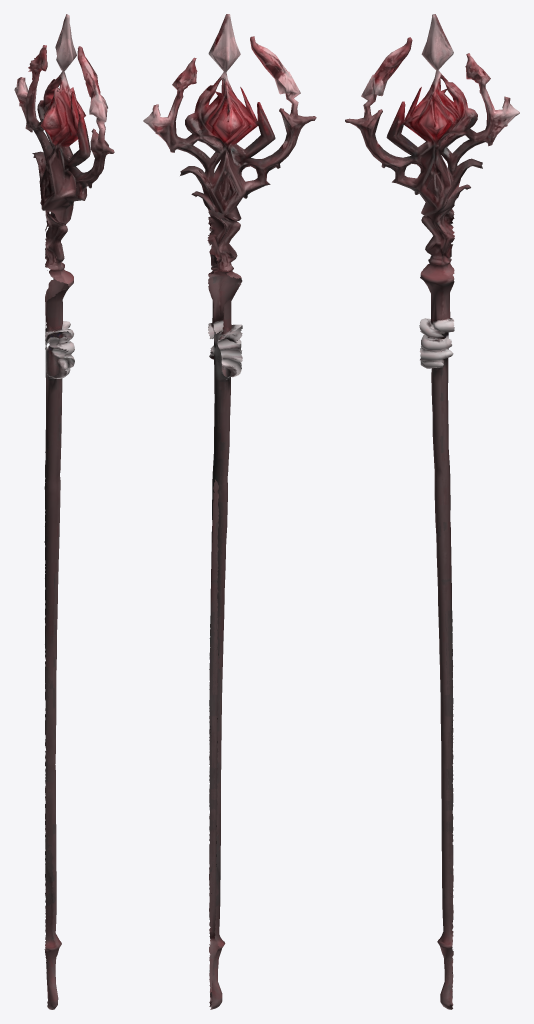
Rendered from azrin_staff.glb.
3 views of the same model, side by side, from view 1: azimuth 90°, elevation 25°; view 2: azimuth 150°, elevation 25°; view 3: azimuth 330°, elevation 25° (orthographic).
Visible parts, largest first — view 1: tripo_node_4475020b.001; view 2: tripo_node_4475020b.001; view 3: tripo_node_4475020b.001.
Boxes of the visible parts, x1,y1,x2,y2 form: tripo_node_4475020b.001: [14, 14, 114, 1009]; tripo_node_4475020b.001: [143, 14, 316, 1009]; tripo_node_4475020b.001: [345, 14, 519, 1009].
Bounding box in the file's own units: 0.2372 × 1.8 × 0.1637.
1 material, 1 textured.
